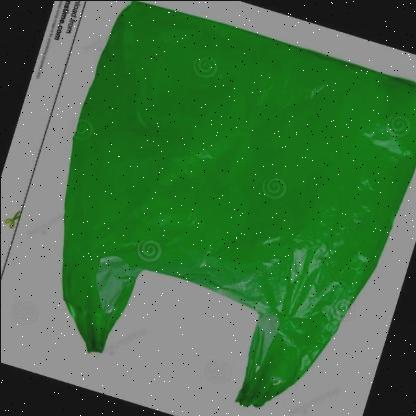Others: (60, 0, 416, 408)
